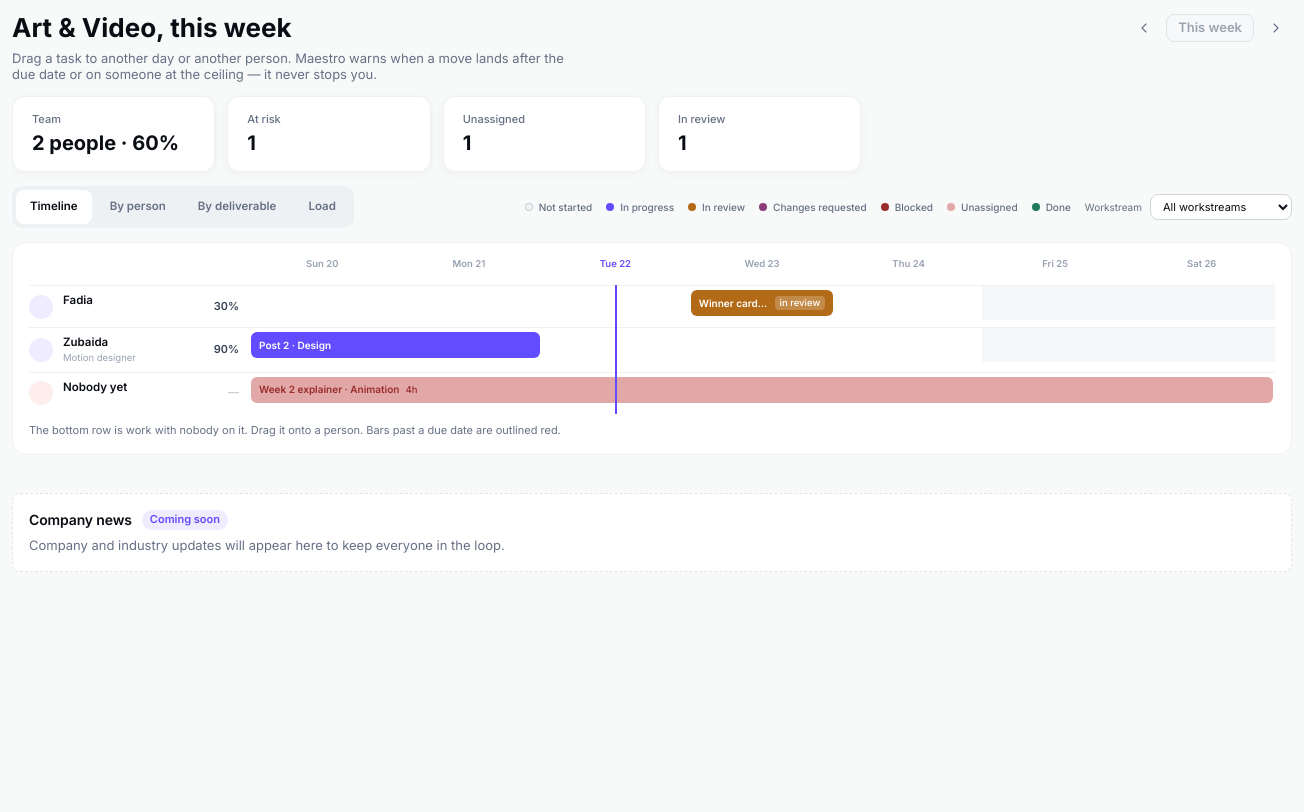
Test: the week — as the Schedule's arrows › moves a week at a time and comes home on This week
The width and height of the screenshot is (1304, 812).
Expected: the button with test id "team-week-today" is disabled, [1166,14,1254,42]
Step 1. Click the button with test id "team-week-next" → [1276, 28], box [1260,12,1292,44]
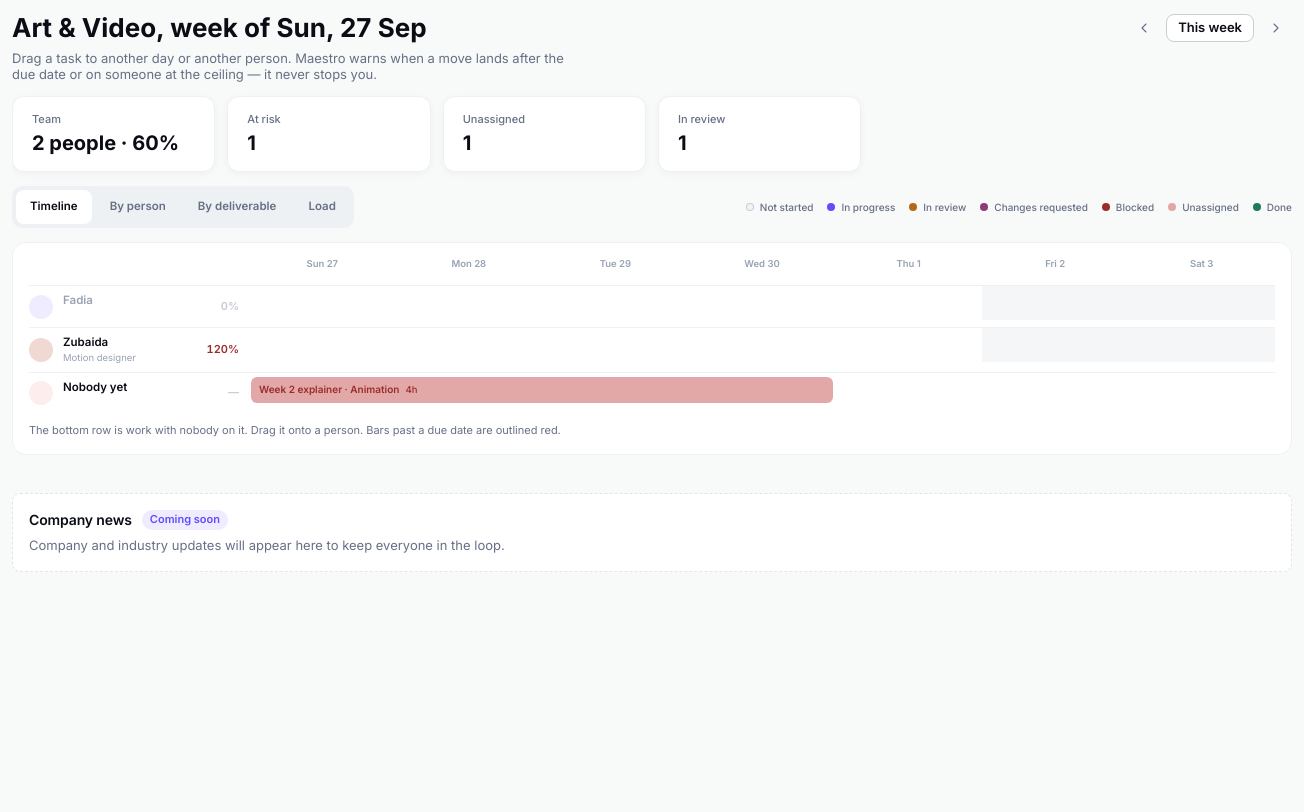
Now the heading with test id "team-title" reads "Art & Video, week of Sun, 27 Sep", box [12,12,426,43]
Step 2. Click the button with test id "team-week-prev" → [1144, 28], box [1128,12,1160,44]
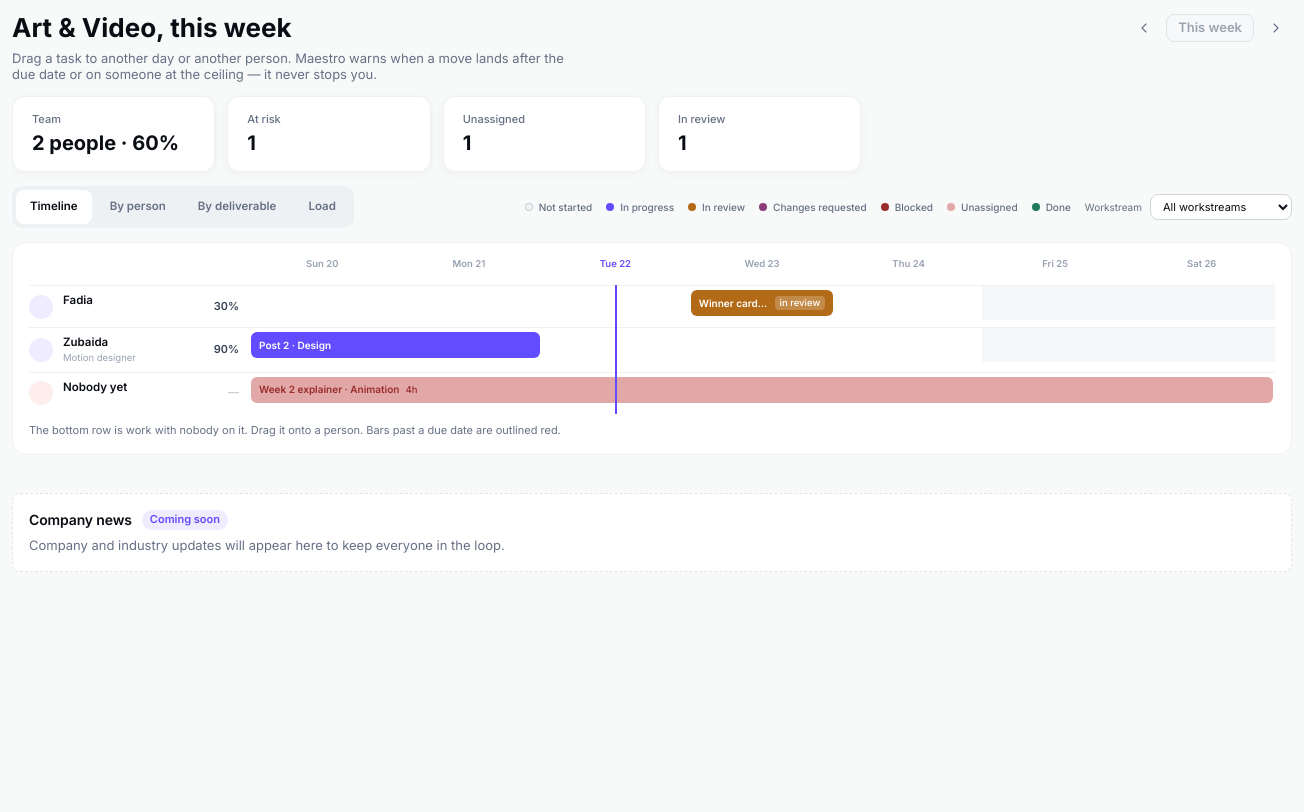
Step 3. Click the button with test id "team-week-prev" → [1144, 28], box [1128,12,1160,44]
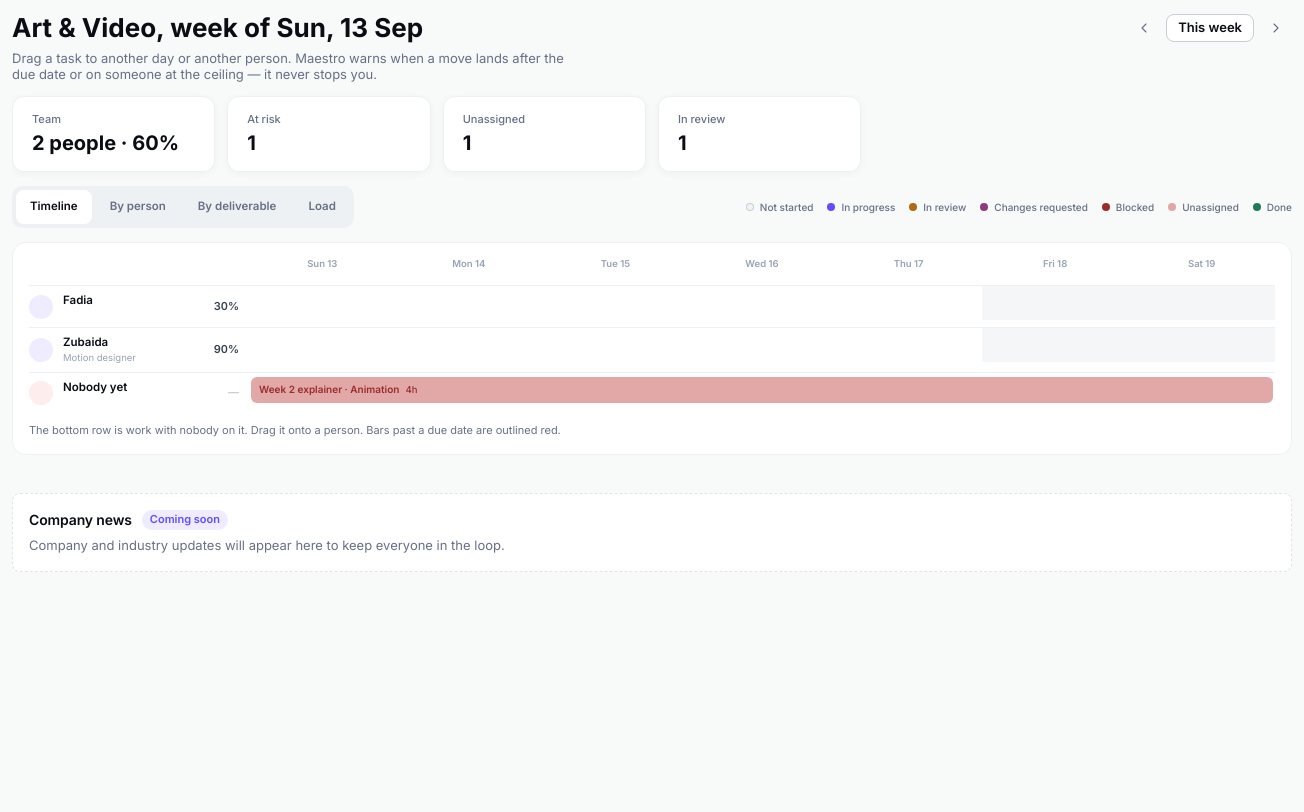
Now the heading with test id "team-title" shows "week of Sun, 13 Sep", box [12,12,423,43]
Step 4. Click the button with test id "team-week-today" → [1210, 28], box [1166,14,1254,42]
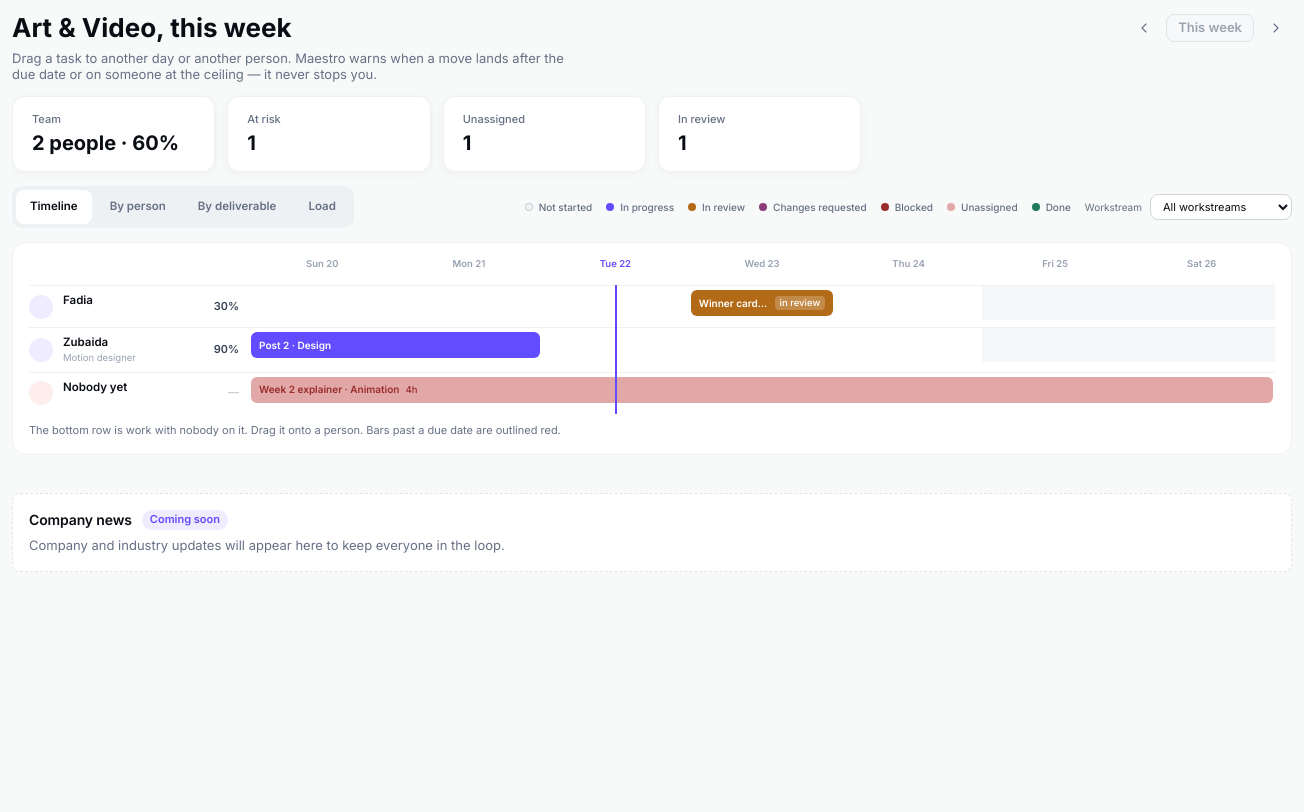
Now the heading with test id "team-title" reads "Art & Video, this week", box [12,12,292,43]
